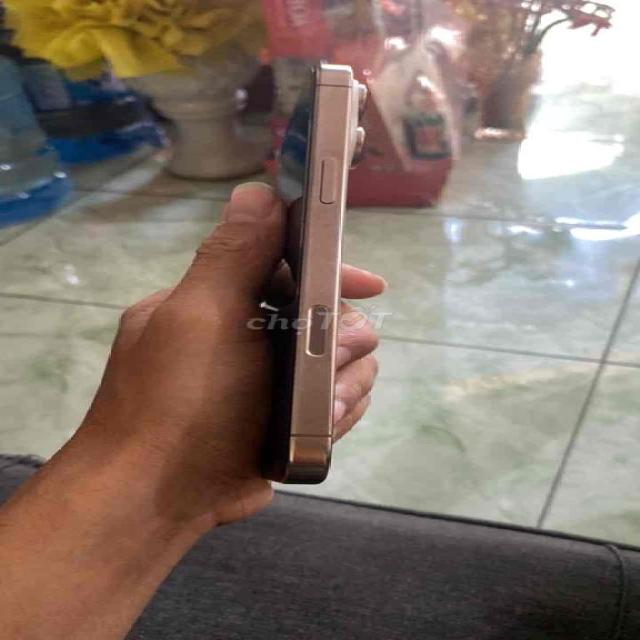gen_16: (218, 46, 388, 484)
